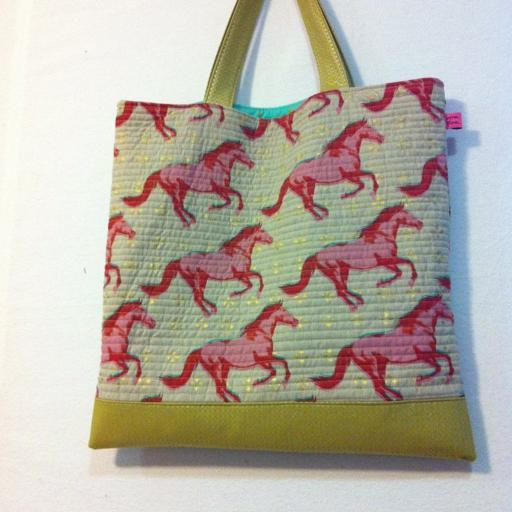horse: (277, 200, 424, 311), (308, 292, 454, 402), (153, 299, 301, 404), (258, 114, 384, 222), (142, 218, 274, 318), (116, 136, 256, 230), (118, 138, 258, 228), (96, 299, 158, 401), (239, 88, 345, 146), (115, 102, 225, 140), (362, 79, 446, 124), (398, 152, 450, 214), (102, 211, 136, 294)
